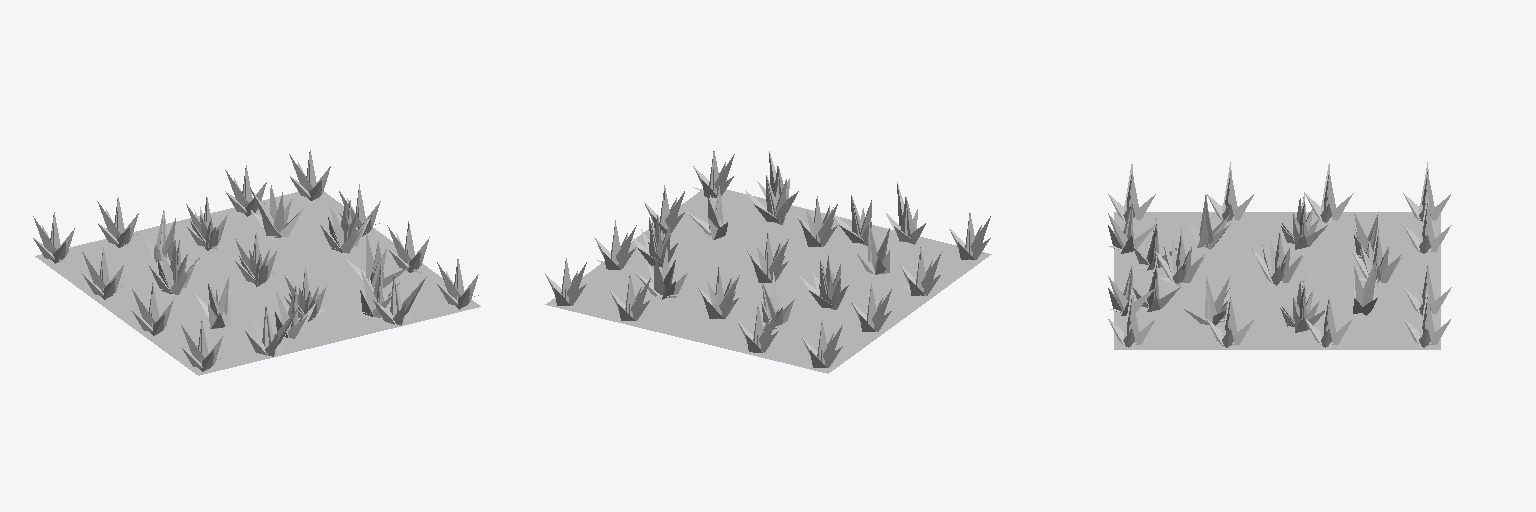
The model's file is grass.obj.
3 views of the same model, side by side, from view 1: azimuth 30°, elevation 25°; view 2: azimuth 150°, elevation 25°; view 3: azimuth 270°, elevation 25° (orthographic).
Visible parts, largest first — view 1: Plano; view 2: Plano; view 3: Plano.
Part boxes in pixels (bbox=[...]): Plano: bbox=[33, 150, 480, 375]; Plano: bbox=[545, 151, 991, 373]; Plano: bbox=[1108, 162, 1451, 349].
Bounding box in the file's own units: 14 × 2.33 × 14.